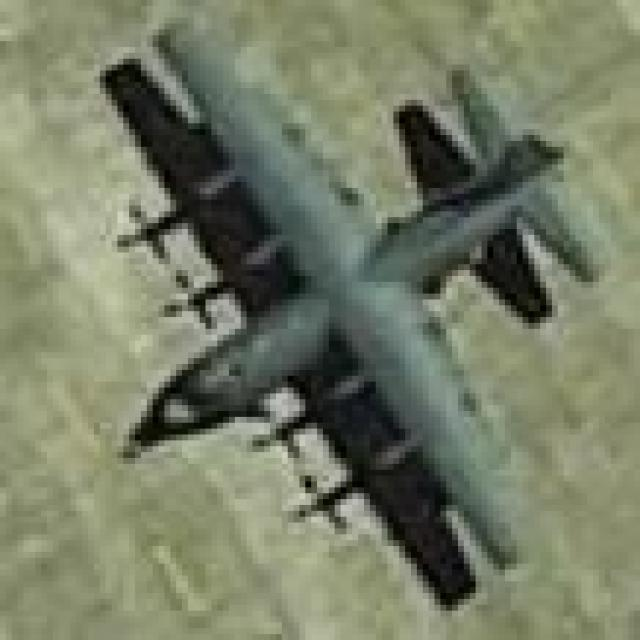C-130_TopDown: (95, 17, 620, 613)
